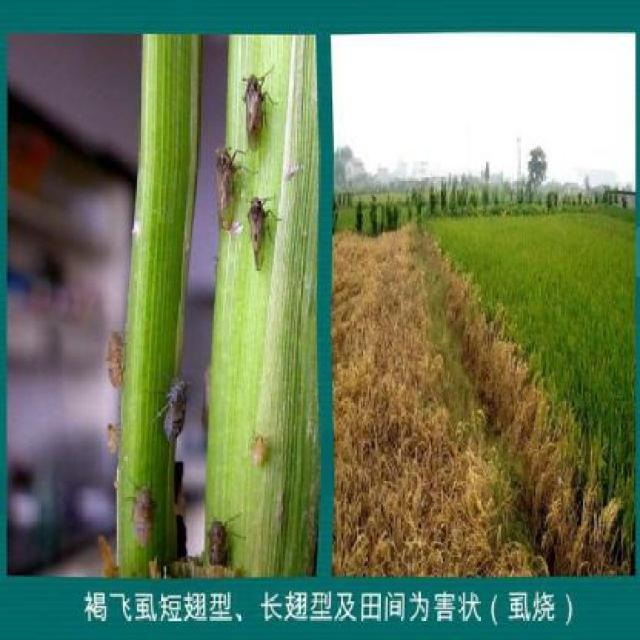brown-planthopper: (211, 142, 238, 228), (240, 72, 269, 152), (245, 192, 273, 274), (163, 375, 189, 442), (203, 514, 229, 568), (132, 487, 154, 548), (106, 325, 126, 390), (247, 432, 268, 468), (104, 420, 122, 454)
